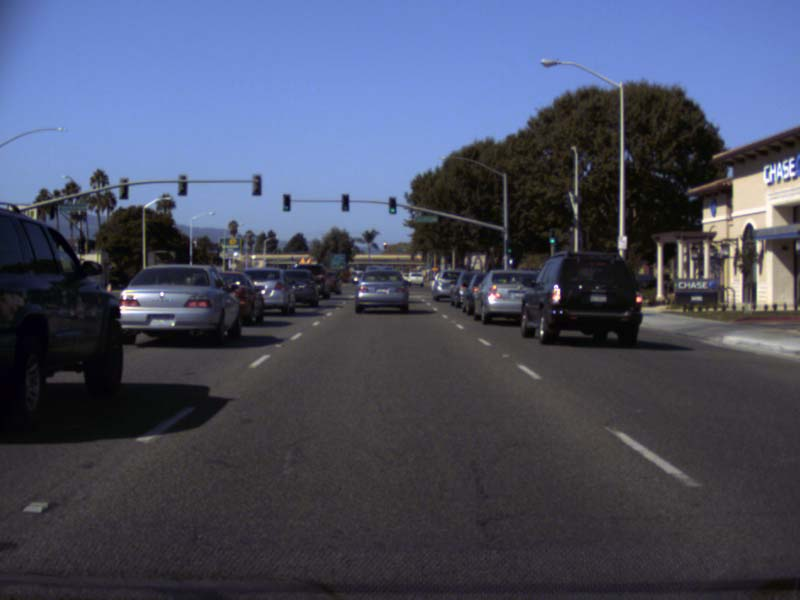Green: (341, 193, 349, 211), (282, 194, 290, 211), (389, 197, 396, 214), (549, 230, 556, 243), (505, 240, 511, 254)
Red: (383, 242, 386, 248)
